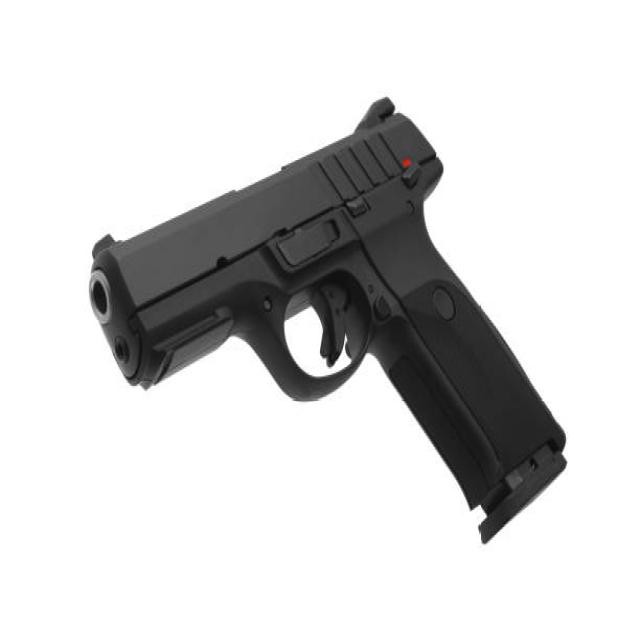pistol: (89, 94, 570, 548)
